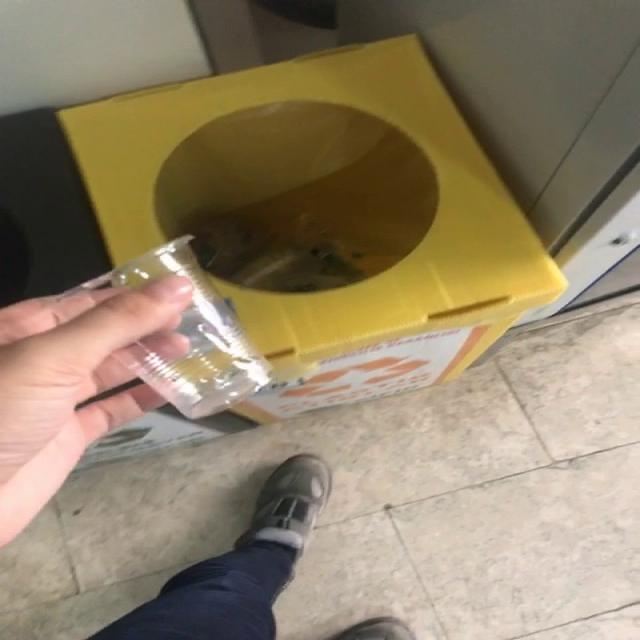Plastic: (63, 235, 271, 420)
